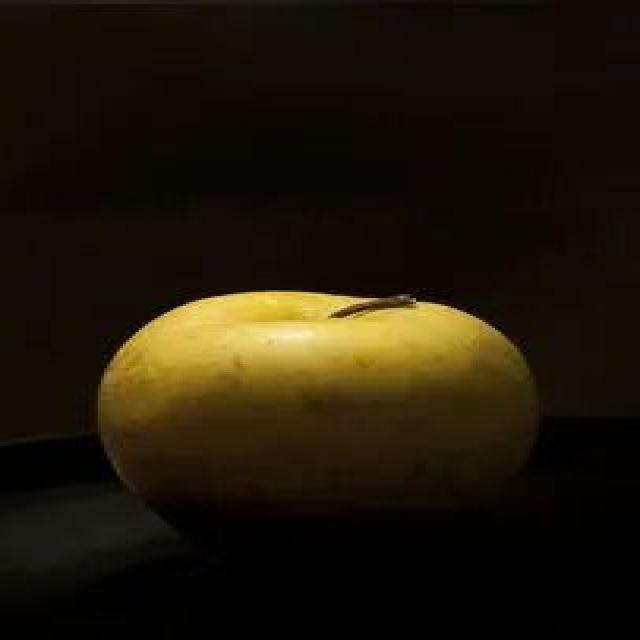Fresh Apple: (94, 282, 554, 506)
